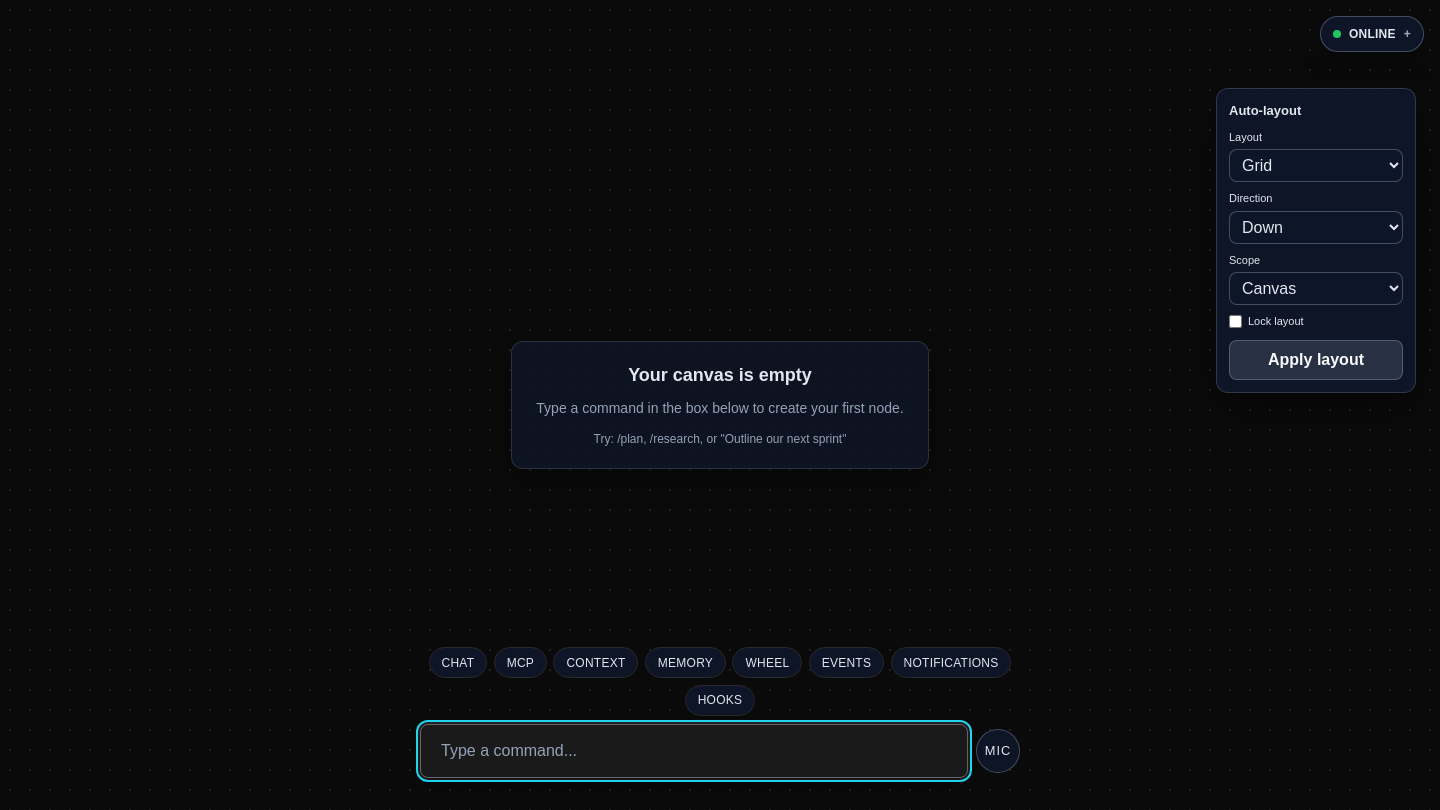
Test: workspace canvas › treats edited assumptions as accepted
In the field named "command input": (694, 751) x1=420 y1=724 x2=968 y2=778, type "Capture metrics"
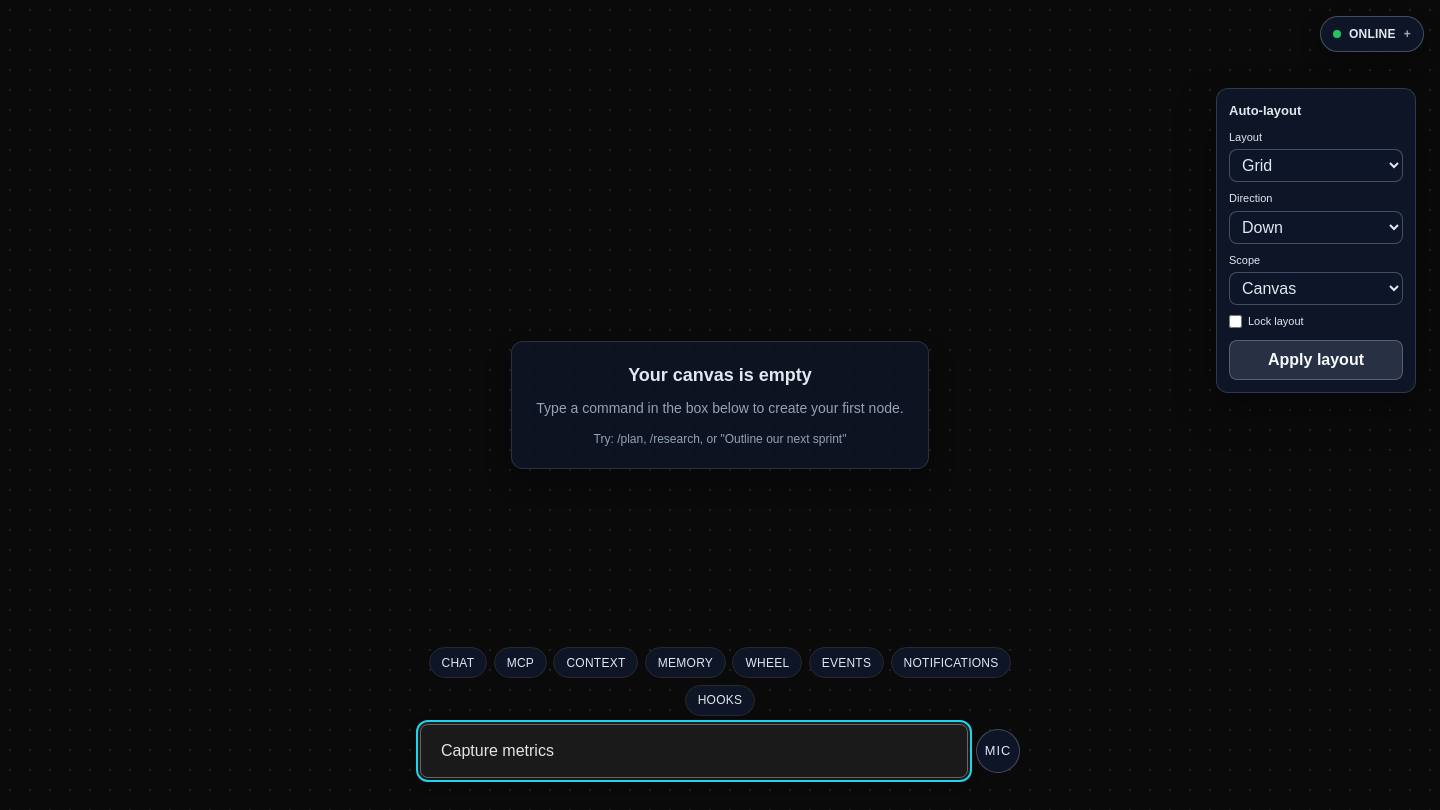
Press Enter in the field named "command input", box x1=420 y1=724 x2=968 y2=778
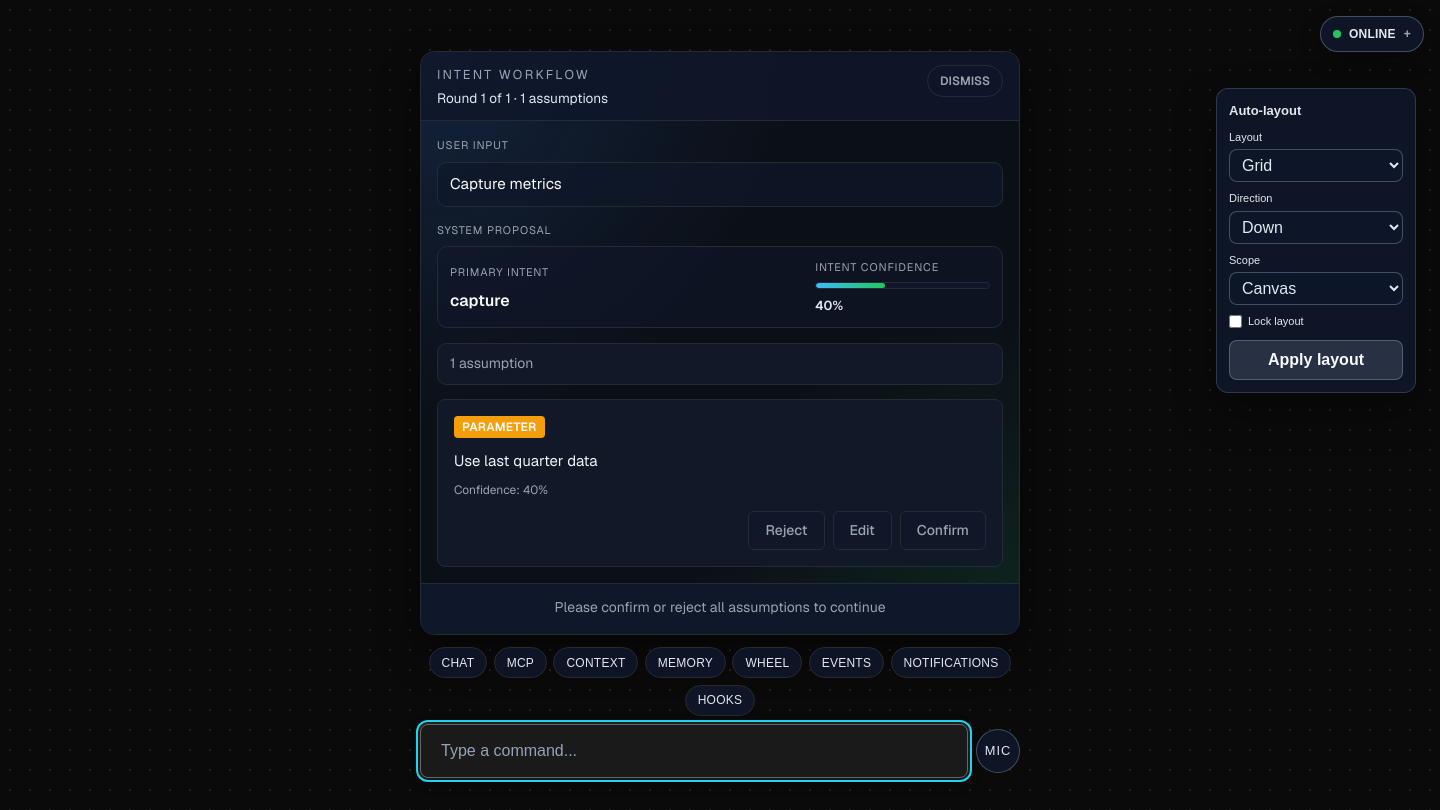
Click the button "Edit": click(862, 530) x1=832 y1=511 x2=892 y2=550
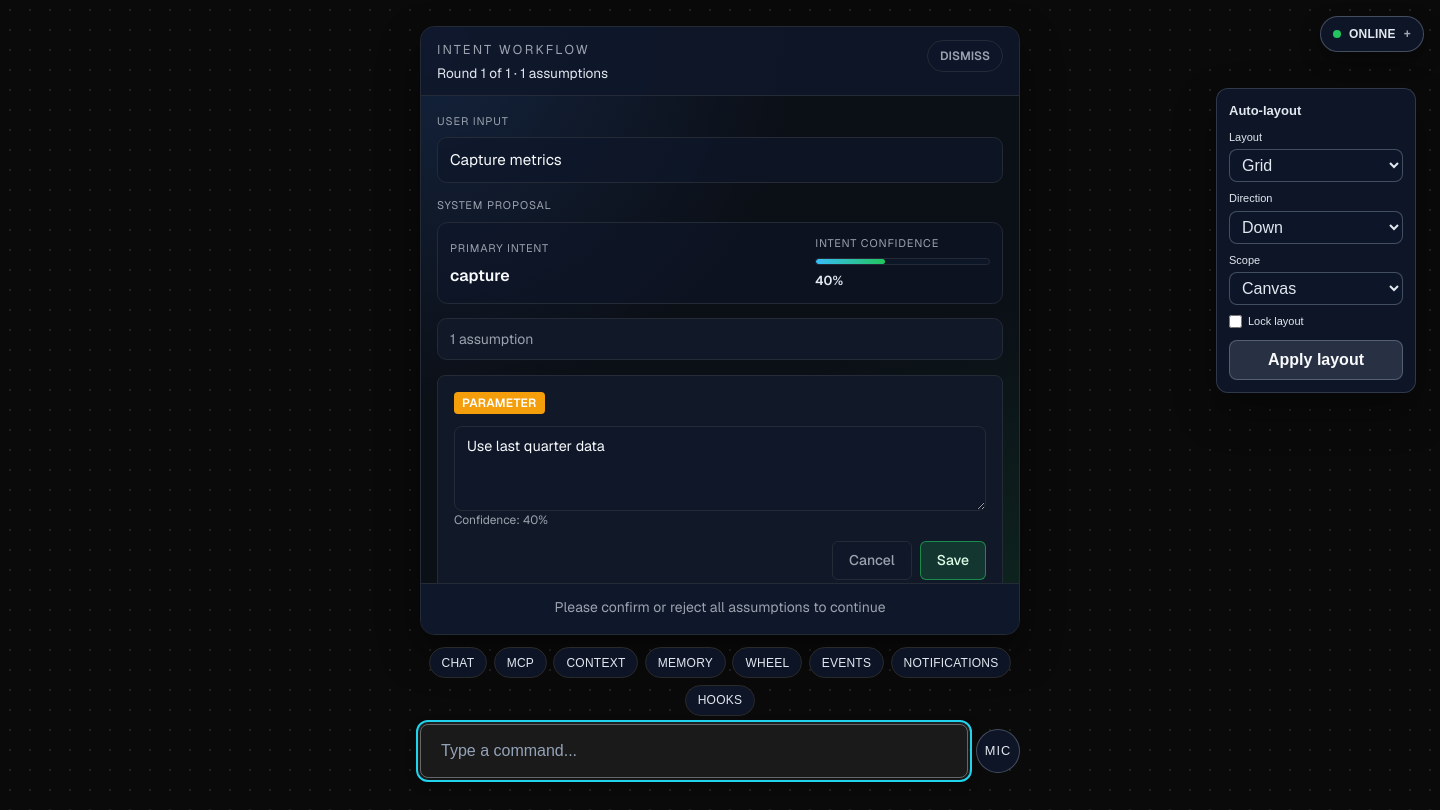
Replace the text in the text box named "Edit assumption" with "Use year-to-date data": (720, 468) x1=454 y1=426 x2=986 y2=511
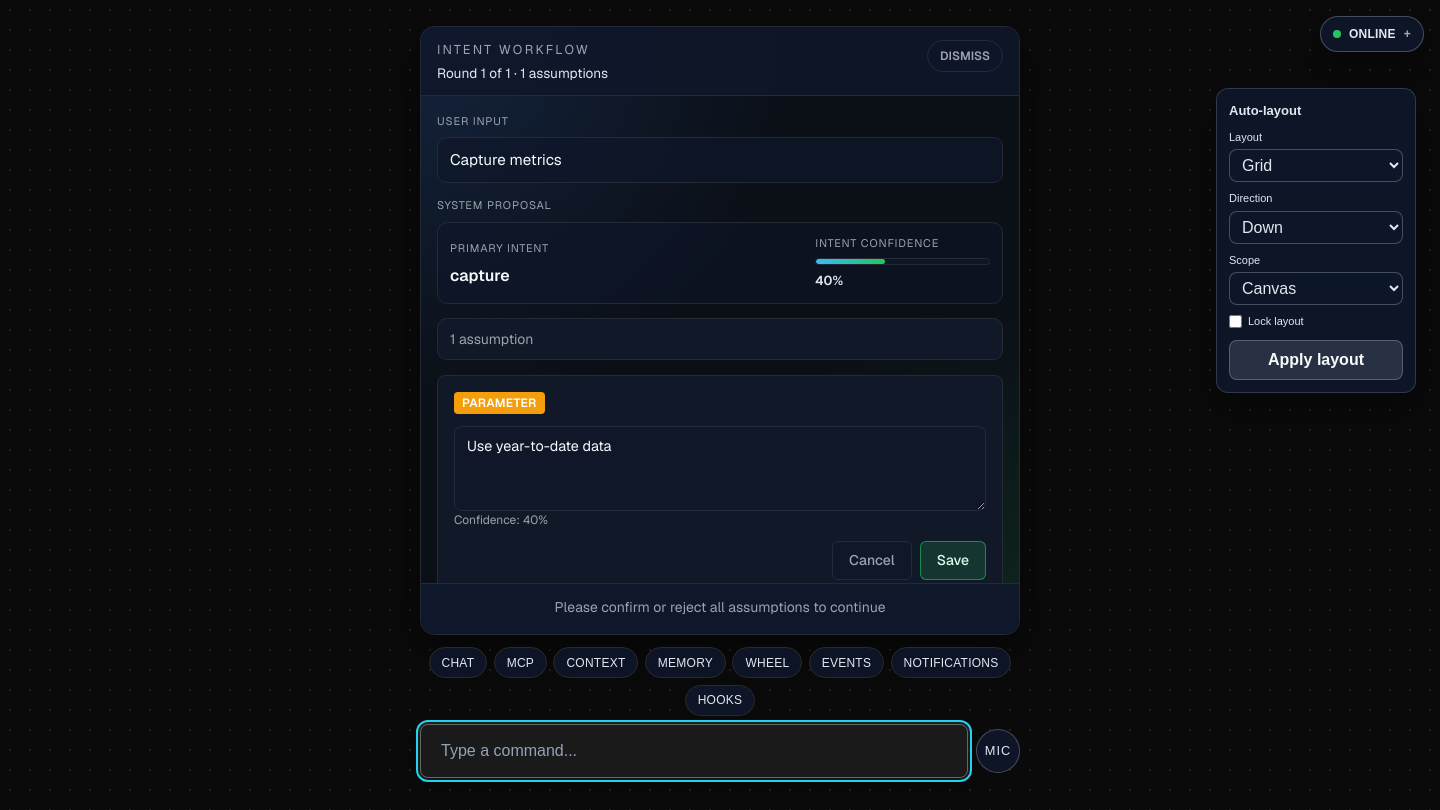
Click the button "Save": click(953, 561) x1=920 y1=542 x2=986 y2=580
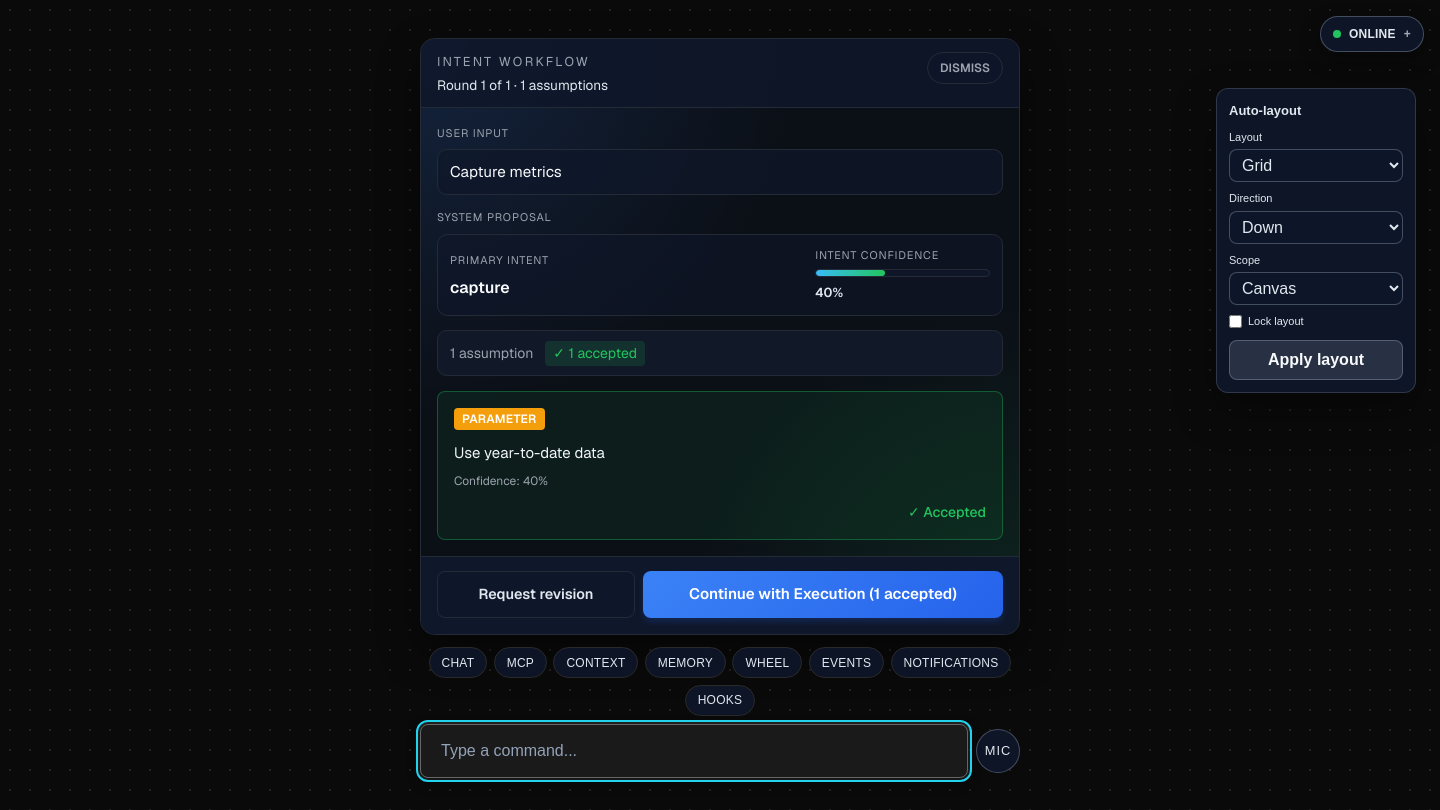
Check: the text "✓ Accepted" is shown, box x1=908 y1=503 x2=986 y2=521
Check: the button "Continue with Execution (1 accepted)" is shown, box x1=643 y1=571 x2=1003 y2=618
